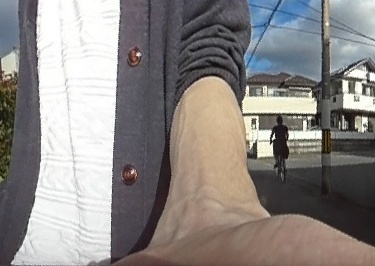person: (271, 115, 290, 165)
